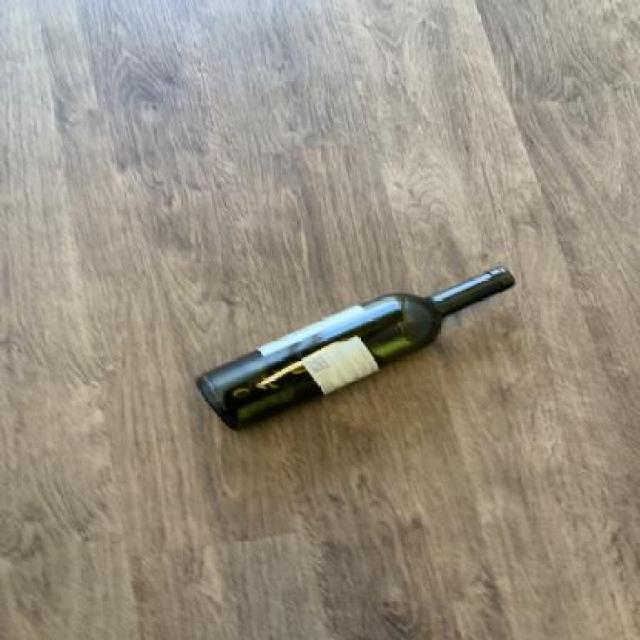trash: (186, 268, 517, 435)
